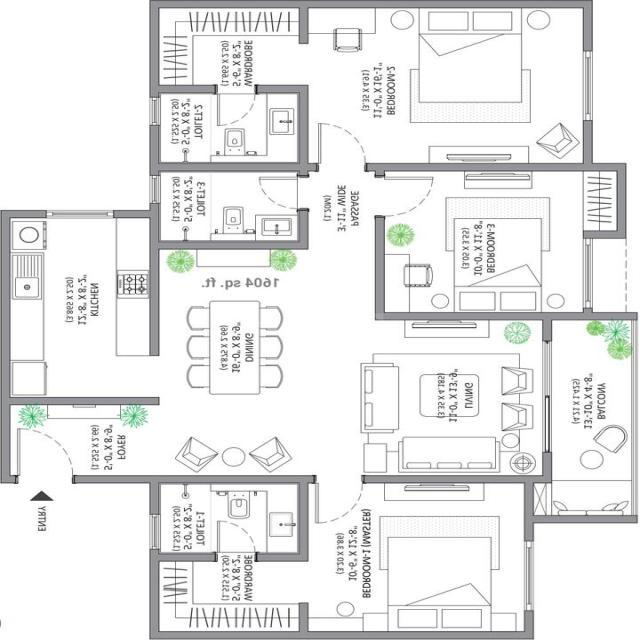Balcony-Sitout: (531, 312, 636, 527)
Bedroom: (299, 480, 532, 638), (375, 168, 590, 313)
Bedroom with Toilet: (150, 3, 590, 168)
Dining: (182, 296, 284, 400)
Dress: (150, 558, 305, 640), (156, 4, 299, 84)
Enterance-Foyer: (12, 412, 78, 506)
Kitchen: (0, 209, 155, 404)
Living: (372, 314, 548, 479)
Toilet: (155, 482, 307, 557), (155, 86, 307, 161), (155, 170, 306, 245)
